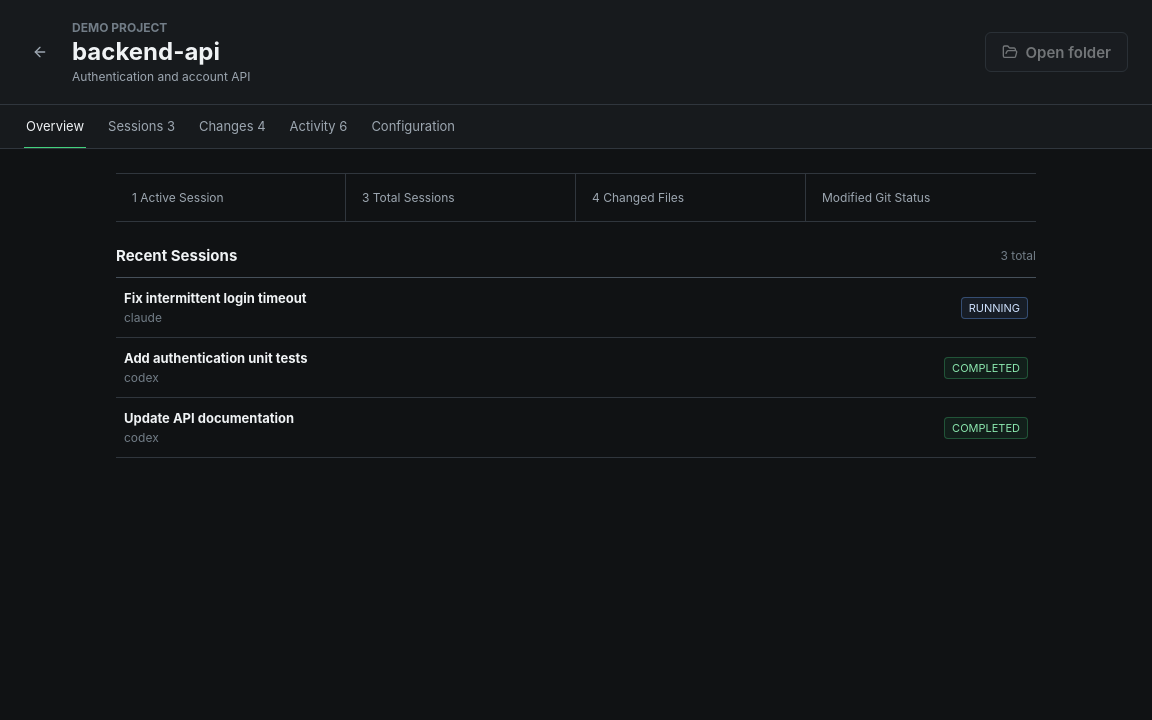
Test: ProjectDetailPage › renders all project views from the shared snapshot
Expected: the heading "backend-api" is shown, left=72, top=37, right=220, bottom=66
Expected: the element named "Project overview" shows "1 active Session", left=132, top=190, right=224, bottom=205
Click the tab "Sessions 3". click: (142, 127)
box: left=106, top=105, right=177, bottom=149
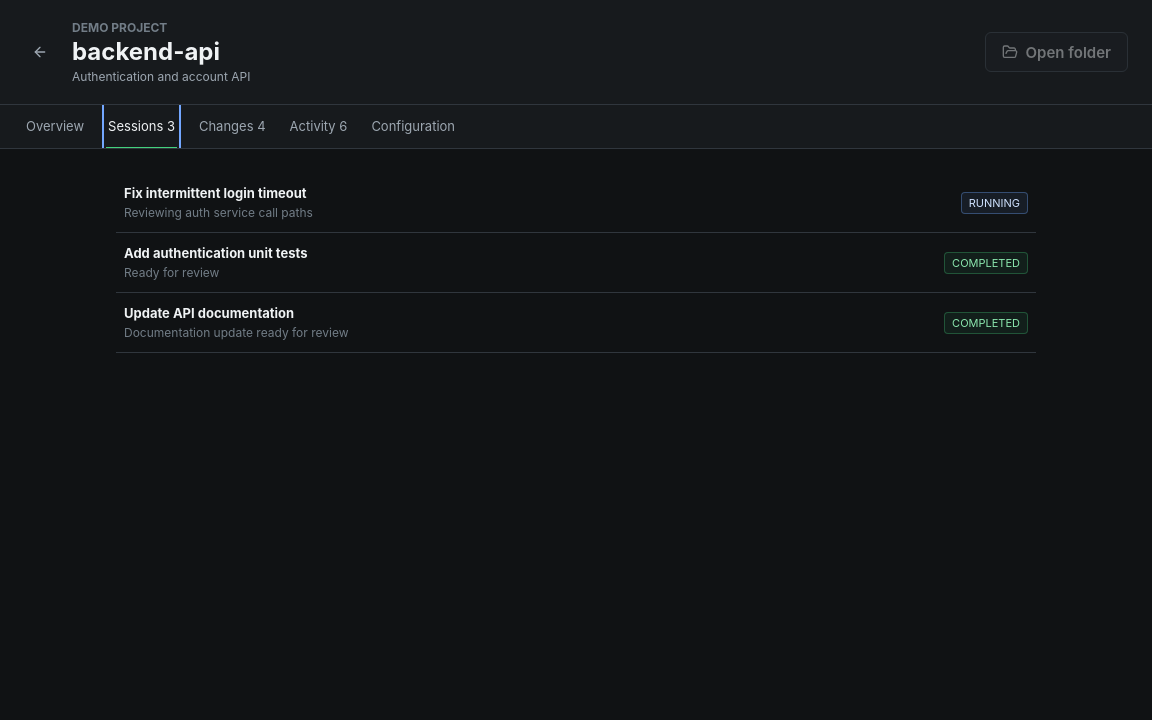
Expected: the link "Fix intermittent login timeout" is shown, left=116, top=173, right=1036, bottom=233
Click the tab "Changes 4". click: (232, 127)
box: left=197, top=105, right=268, bottom=149
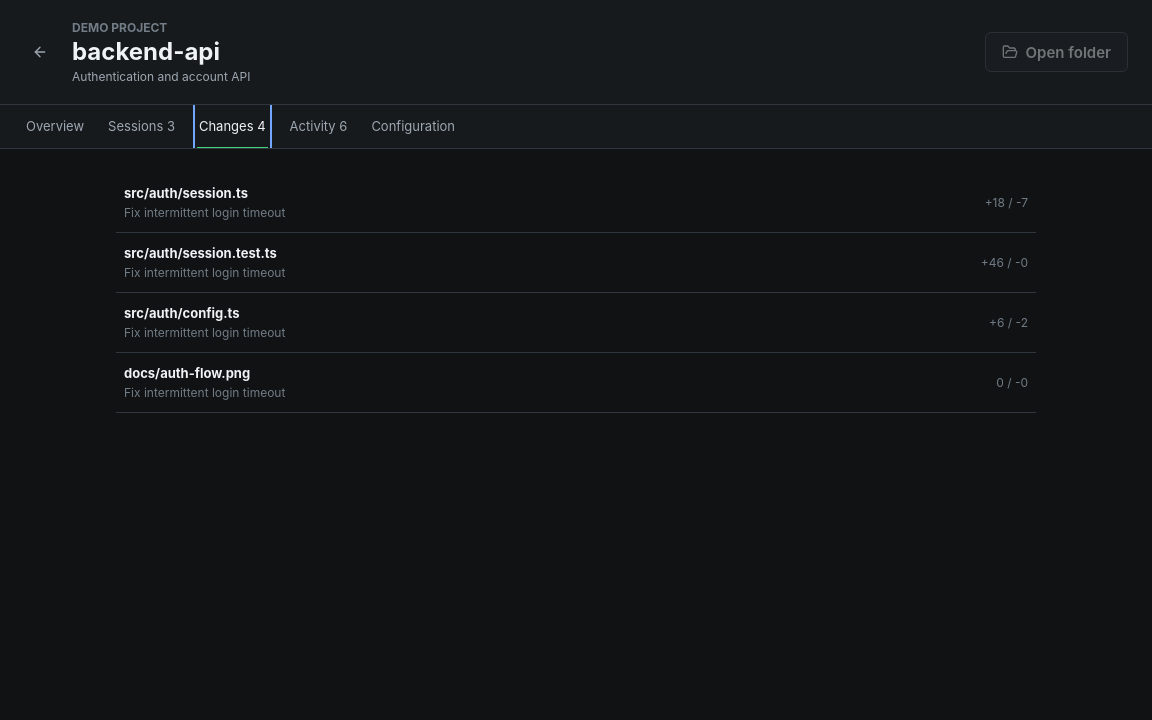
Result: the text "src/auth/session.ts" is shown at left=124, top=185, right=248, bottom=201
Click the tab "Activity 6". click: (318, 127)
box: left=288, top=105, right=349, bottom=149
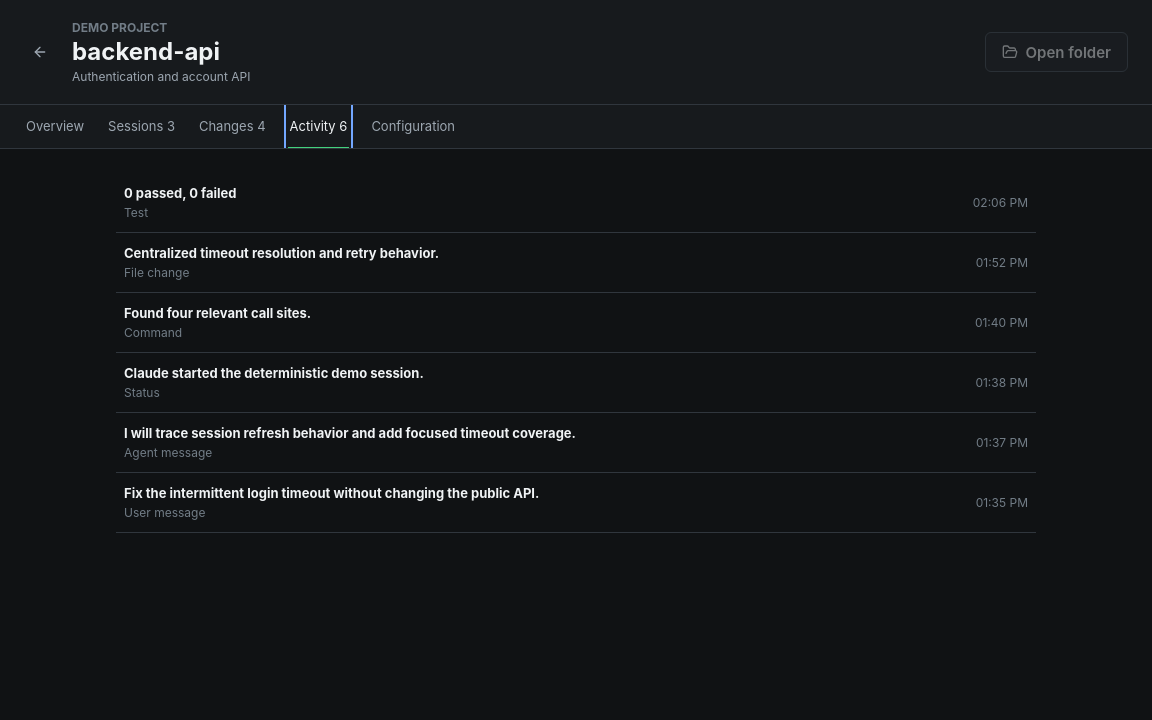
Result: the text "Found four relevant call sites." is shown at left=124, top=305, right=311, bottom=321
Click the tab "Configuration". click: (413, 127)
box: left=369, top=105, right=457, bottom=149
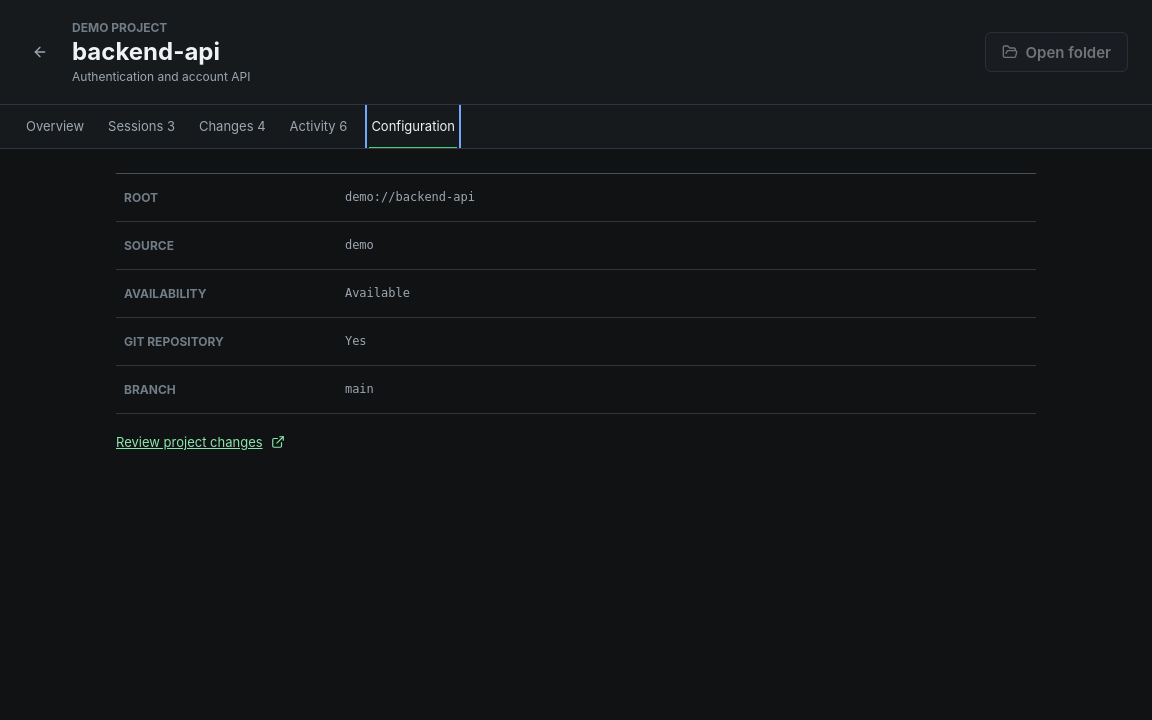
Result: the text "demo://backend-api" is shown at left=345, top=190, right=475, bottom=204
